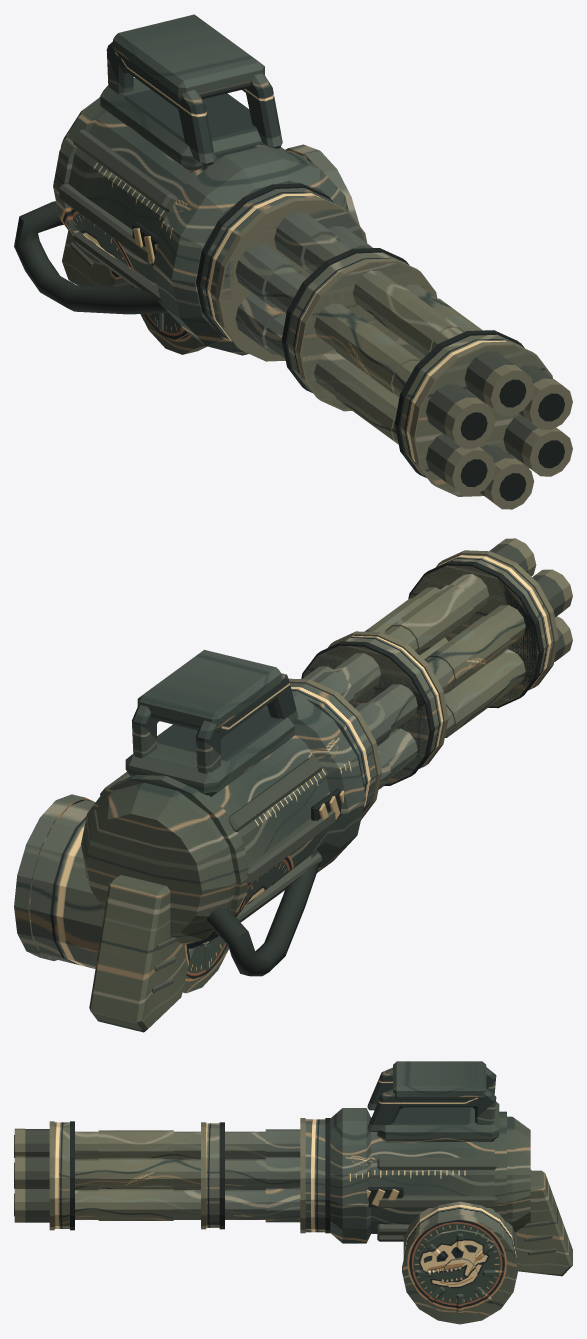
The model's file is Minigun_FossilBed.glb.
The picture shows the model from 3 angles, top to bottom: view 1: azimuth 30°, elevation 25°; view 2: azimuth 150°, elevation 25°; view 3: azimuth 270°, elevation 25°; orthographic projection. The views are drawn at different scales.
Parts seen in each view (by area): view 1: Rotor, Main, FeedDrum; view 2: Main, Rotor, FeedDrum; view 3: Main, Rotor, FeedDrum.
Boxes of the visible parts, x1=… form: Rotor: x1=196, y1=183, x2=572, y2=509; Main: x1=14, y1=14, x2=348, y2=355; FeedDrum: x1=129, y1=144, x2=359, y2=354; Main: x1=81, y1=650, x2=365, y2=1032; Rotor: x1=289, y1=538, x2=572, y2=819; FeedDrum: x1=14, y1=794, x2=228, y2=993; Main: x1=330, y1=1061, x2=572, y2=1276; Rotor: x1=14, y1=1118, x2=330, y2=1233; FeedDrum: x1=402, y1=1201, x2=517, y2=1324.
Size of the model in its own units: 1.34 by 1.49 by 3.71.
Materials: 1 (1 with a texture image).
